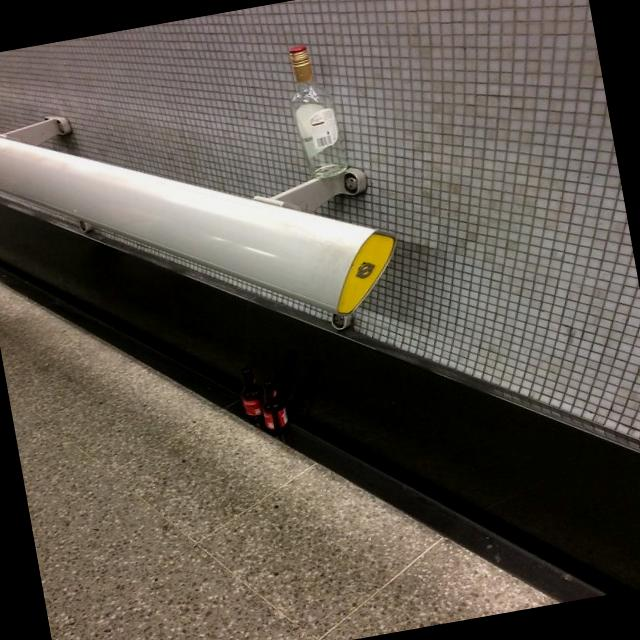Recycle: (282, 44, 352, 184), (220, 352, 294, 441)
